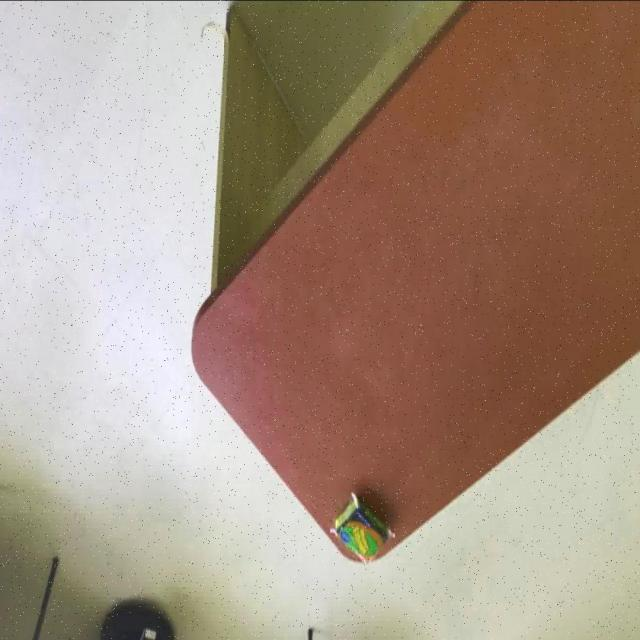Sponge: (189, 0, 640, 565), (328, 488, 395, 562)
